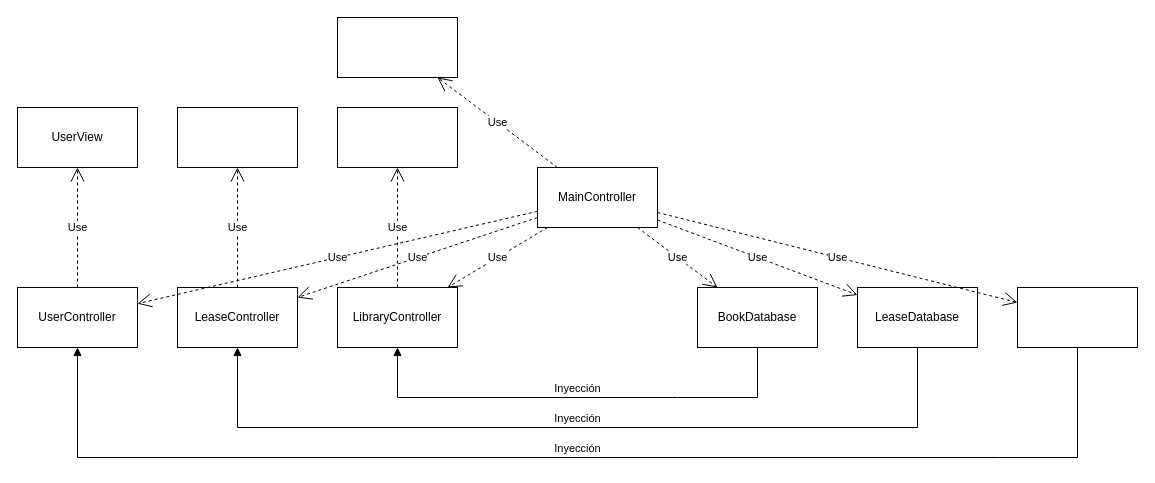
This 1155x483 diagram has some shape labels left out. Each missing label, with the centre of its shape:
"LeaseView" goes at pixel 237 137.
"LibraryView" goes at pixel 397 137.
"MainView" goes at pixel 397 47.
"UserDatabase" goes at pixel 1077 317.
